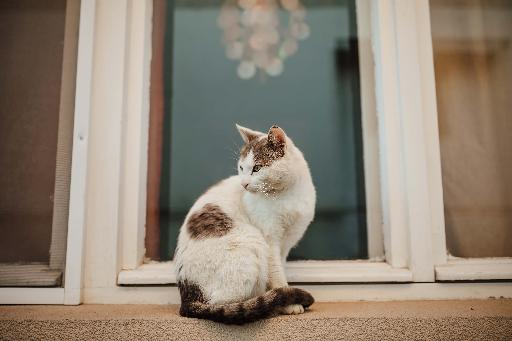cat_sitting: (174, 124, 316, 325)
